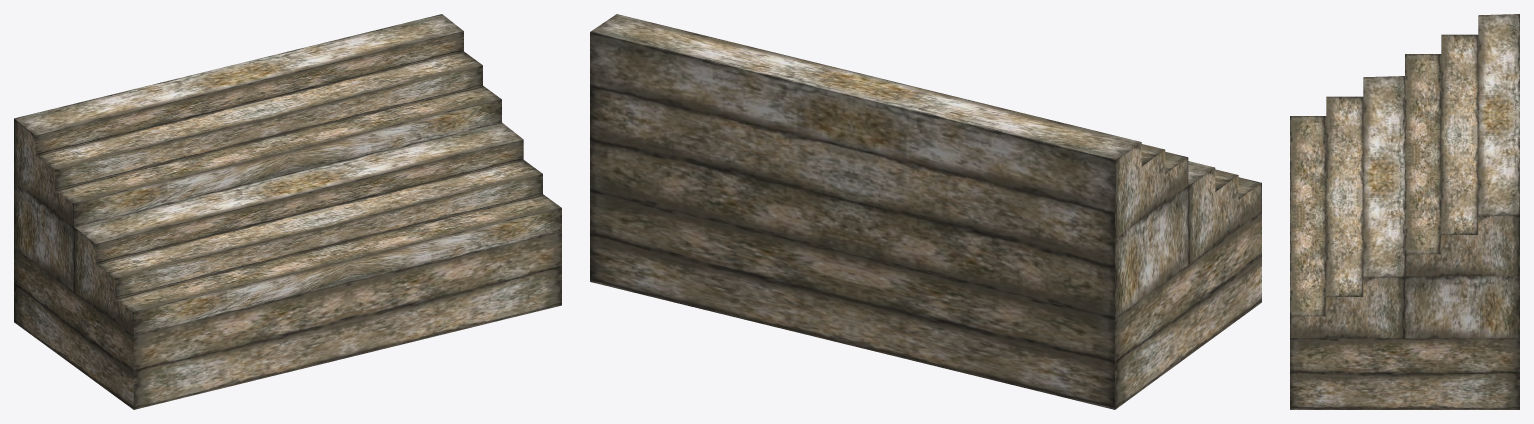
The model's file is stone_stairs_quadruple.fbx.
3 renders of one model, left to right at view 1: azimuth 30°, elevation 25°; view 2: azimuth 150°, elevation 25°; view 3: azimuth 270°, elevation 25°, orthographic. The views are drawn at different scales.
Parts seen in each view (by area): view 1: polySurface11_DUP, polySurface10_DUP, polySurface9; view 2: polySurface9, polySurface10_DUP; view 3: polySurface10_DUP, polySurface9.
Part boxes in pixels (bbox=[...]): polySurface11_DUP: bbox=[35, 31, 561, 409]; polySurface10_DUP: bbox=[14, 14, 561, 312]; polySurface9: bbox=[14, 119, 133, 409]; polySurface9: bbox=[590, 32, 1261, 409]; polySurface10_DUP: bbox=[590, 14, 1261, 199]; polySurface10_DUP: bbox=[1290, 14, 1519, 316]; polySurface9: bbox=[1290, 214, 1519, 409].
Bounding box in the file's own units: 2299 × 1046 × 1114.
1 material, 1 textured.
